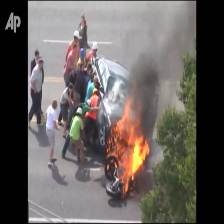fire_h: (105, 93, 149, 191)
fire_l: (106, 159, 117, 171)
